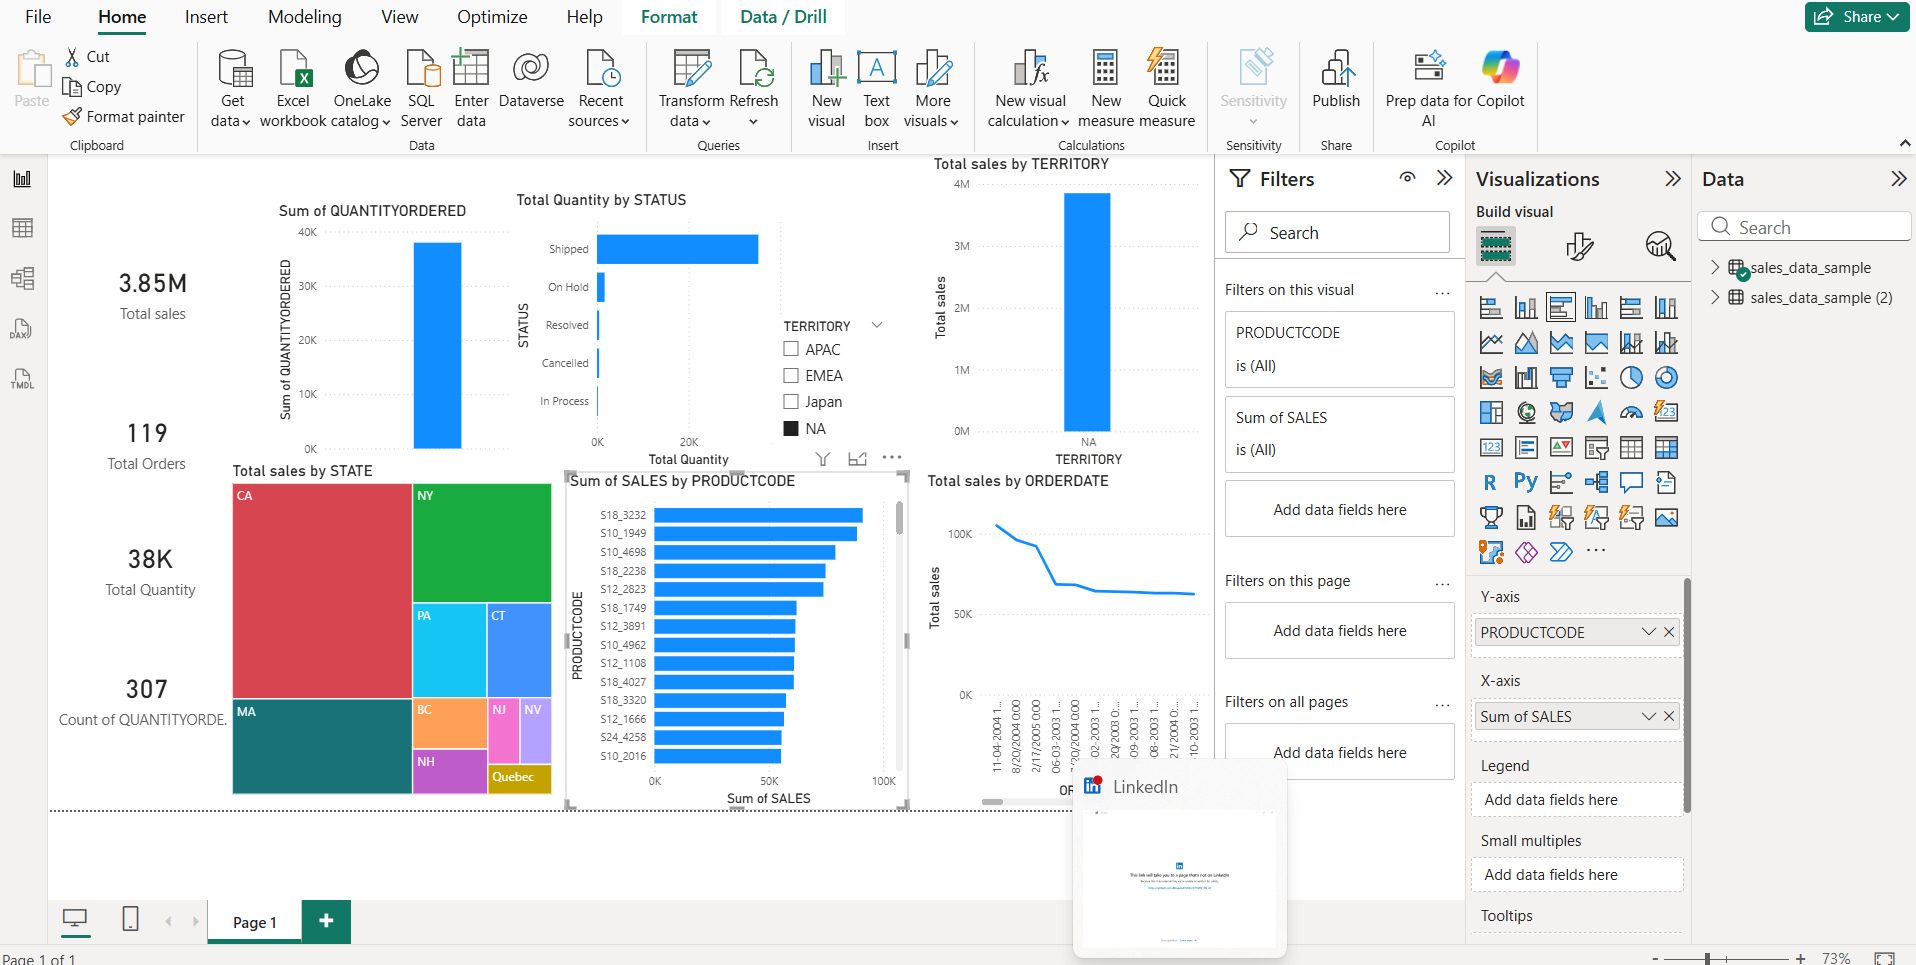

This screenshot's page, from the dashboard's own definition file:
{"tool":"powerbi","page":{"name":"Page 1","canvas":[1280,720],"ordinal":0},"visuals":[{"type":"card","fields":{"Values":["sales_data_sample.Total sales"]},"box":[15.1,16.5,200.3,269],"z":0},{"type":"card","fields":{"Values":["sales_data_sample.Total Orders"]},"box":[0,219.6,197.6,216.8],"z":1000},{"type":"clusteredColumnChart","fields":{"Y":["Sum(sales_data_sample.QUANTITYORDERED)"]},"box":[248.4,52.1,310.1,285.4],"z":2000},{"type":"card","fields":{"Values":["sales_data_sample.Total Orders"]},"box":[9.6,229.2,197.6,172.9],"z":3000},{"type":"card","fields":{"Values":["sales_data_sample.Total Quantity"]},"box":[9.6,402.1,205.8,102.9],"z":4000},{"type":"card","fields":{"Values":["CountNonNull(sales_data_sample (2).QUANTITYORDERED)"]},"box":[5.5,521.4,205.8,149.6],"z":5000},{"type":"clusteredBarChart","fields":{"Category":["sales_data_sample (2).STATUS"],"Y":["sales_data_sample.Total Quantity"]},"box":[508.6,40,310,308.6],"z":6000},{"type":"lineChart","fields":{"Y":["sales_data_sample.Total sales"],"Category":["sales_data_sample.ORDERDATE"]},"box":[960.6,348.5,319.7,371.9],"z":7000},{"type":"clusteredBarChart","fields":{"Category":["sales_data_sample.PRODUCTCODE"],"Y":["Sum(sales_data_sample.SALES)"]},"box":[568.1,348.5,376,371.9],"z":8000},{"type":"treemap","fields":{"Values":["sales_data_sample.Total sales"],"Group":["sales_data_sample.STATE"]},"box":[197.6,337.6,360.9,370.5],"z":9000},{"type":"columnChart","fields":{"Category":["sales_data_sample.TERRITORY"],"Y":["sales_data_sample.Total sales"]},"box":[967.4,0,300.5,348.5],"z":10000},{"type":"slicer","fields":{"Values":["sales_data_sample.TERRITORY"]},"box":[794.5,175.6,134.5,152.3],"z":11000}]}

Visuals, with their boxes on the page's 1280x720 design canvas (x1, y1, x2, y2). These are canvas units, not pixel positions in the 1916x965 screenshot, which may show the page scaled, cropped or inside an application window:
card - sales_data_sample.Total sales: [x1=15, y1=16, x2=215, y2=286]
card - sales_data_sample.Total Orders: [x1=0, y1=220, x2=198, y2=436]
clusteredColumnChart - Sum(sales_data_sample.QUANTITYORDERED): [x1=248, y1=52, x2=558, y2=338]
card - sales_data_sample.Total Orders: [x1=10, y1=229, x2=207, y2=402]
card - sales_data_sample.Total Quantity: [x1=10, y1=402, x2=215, y2=505]
card - CountNonNull(sales_data_sample (2).QUANTITYORDERED): [x1=6, y1=521, x2=211, y2=671]
clusteredBarChart - sales_data_sample (2).STATUS x sales_data_sample.Total Quantity: [x1=509, y1=40, x2=819, y2=349]
lineChart - sales_data_sample.Total sales x sales_data_sample.ORDERDATE: [x1=961, y1=348, x2=1280, y2=720]
clusteredBarChart - sales_data_sample.PRODUCTCODE x Sum(sales_data_sample.SALES): [x1=568, y1=348, x2=944, y2=720]
treemap - sales_data_sample.Total sales x sales_data_sample.STATE: [x1=198, y1=338, x2=558, y2=708]
columnChart - sales_data_sample.TERRITORY x sales_data_sample.Total sales: [x1=967, y1=0, x2=1268, y2=348]
slicer - sales_data_sample.TERRITORY: [x1=794, y1=176, x2=929, y2=328]
